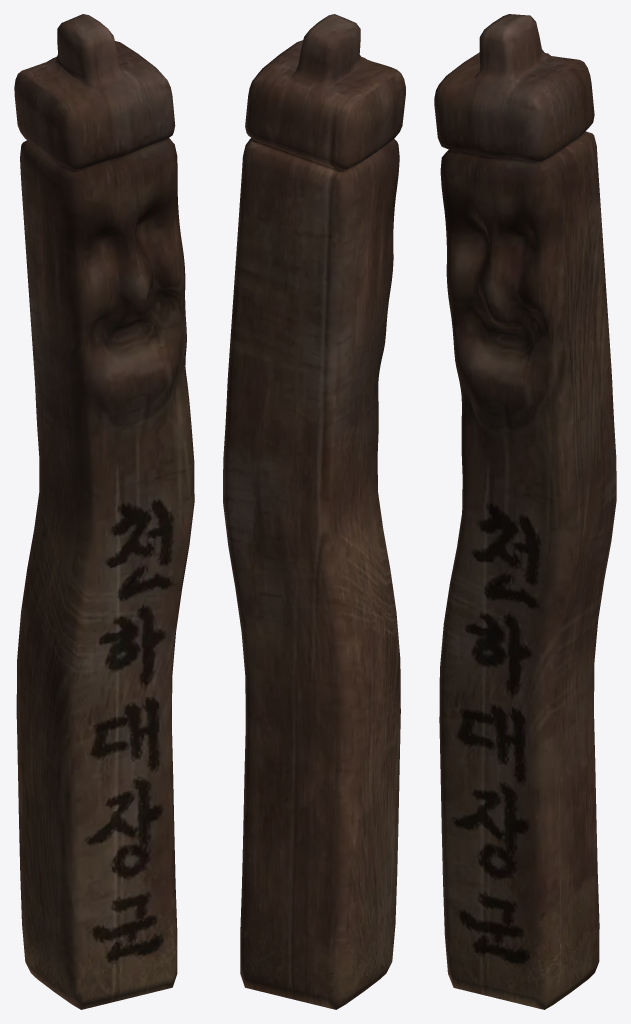
Rendered from jangseung.glb.
3 renders of one model, left to right at view 1: azimuth 30°, elevation 25°; view 2: azimuth 150°, elevation 25°; view 3: azimuth 330°, elevation 25°, orthographic.
Visible parts, largest first — view 1: jangseung_2; view 2: jangseung_2; view 3: jangseung_2.
Part boxes in pixels (left/top/right/bottom): jangseung_2: left=14, top=14, right=194, bottom=1009; jangseung_2: left=223, top=14, right=405, bottom=1009; jangseung_2: left=434, top=14, right=616, bottom=1009.
Size of the model in its own units: 0.4192 by 2.79 by 0.3472.
Materials: 1 (1 with a texture image).
